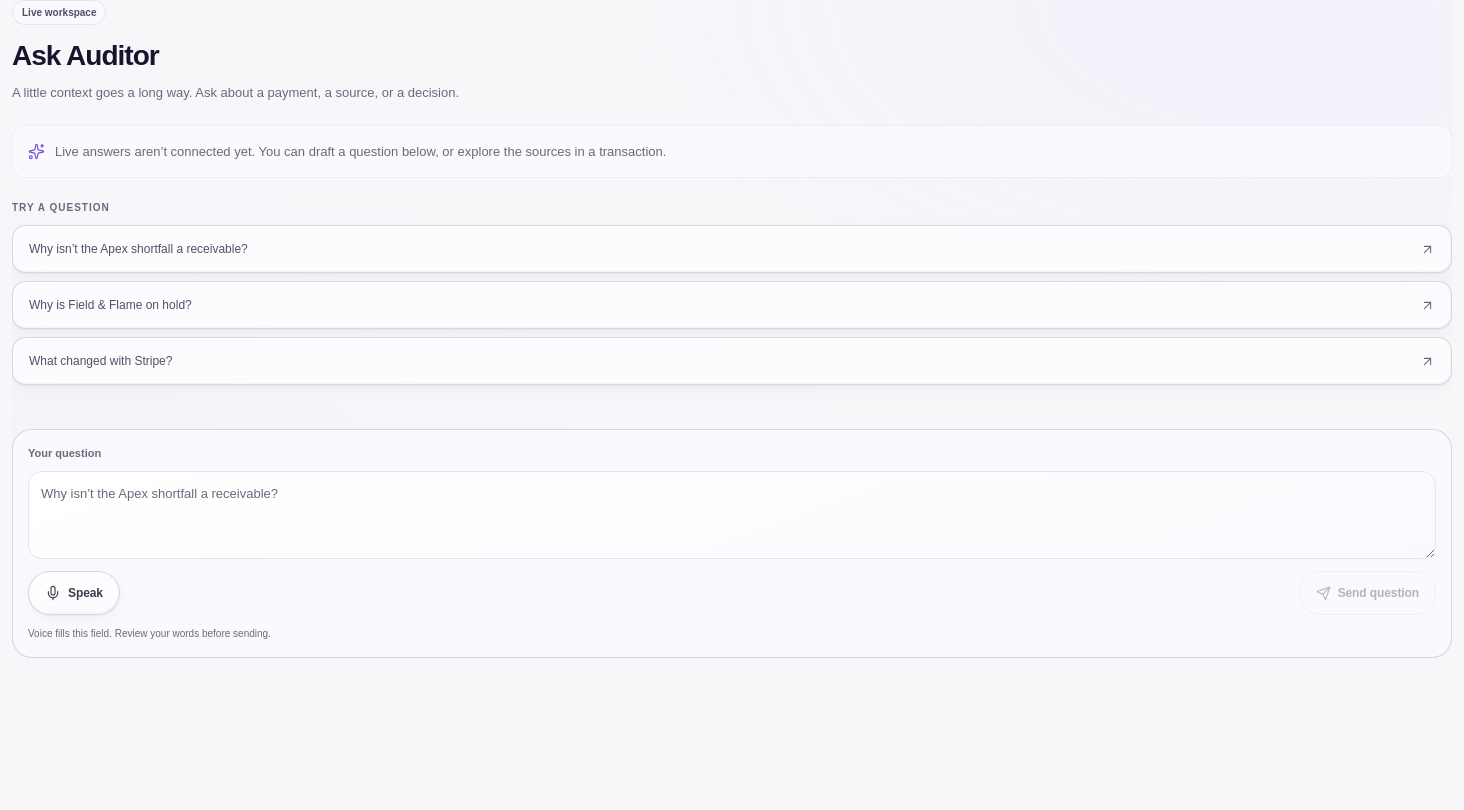
Test: explicit voice input › supports the prefixed browser API and can draft voice text while live answers are unavailable
The image size is (1464, 810).
What coordinates should you click on to do the following:
click the button with aria-label "Start microphone"
I would click on:
 (74, 593)
Its box is x1=28 y1=571 x2=120 y2=615.
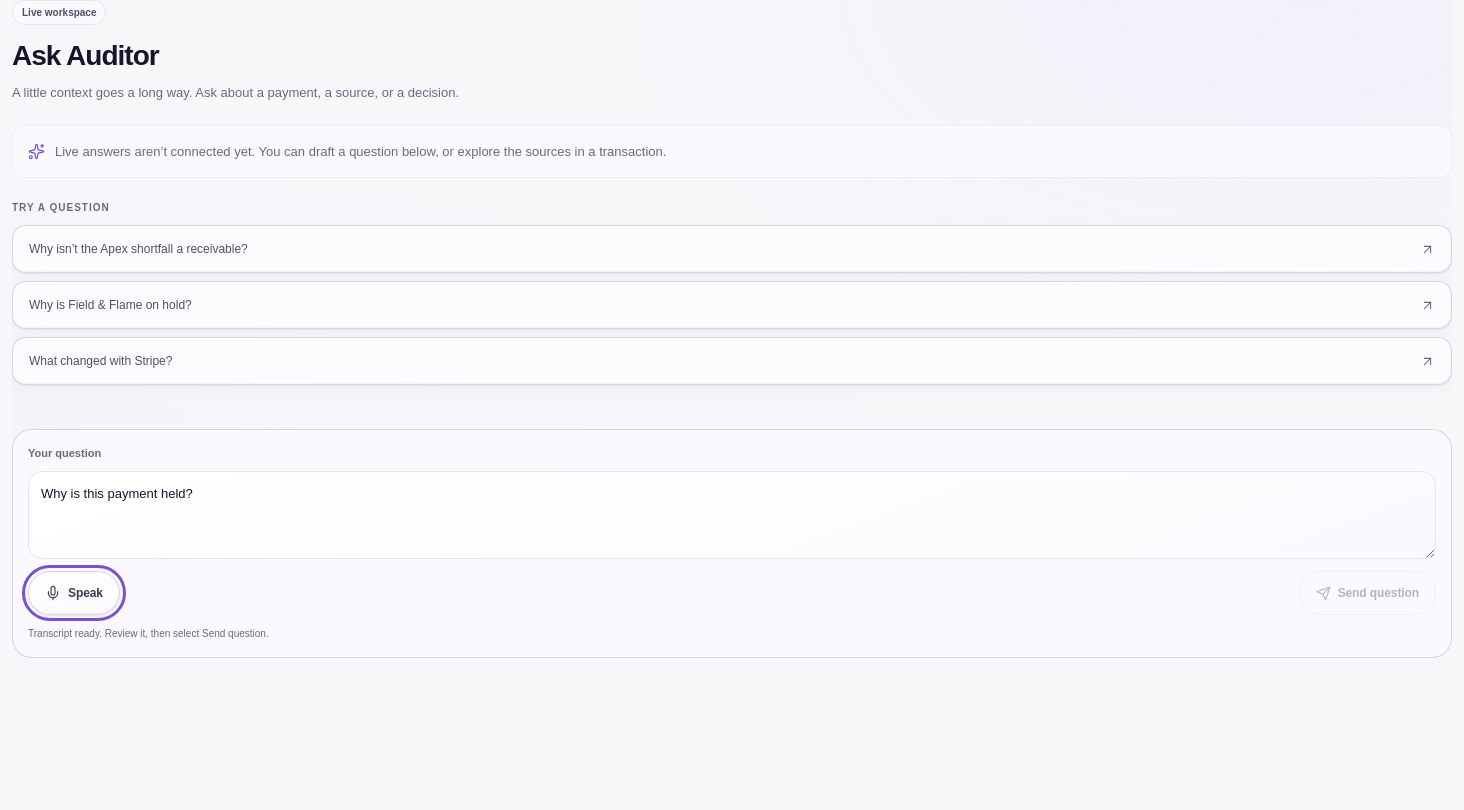
Expected: the button "Send question" is disabled, x1=1299 y1=571 x2=1436 y2=615
Expected: the text box labelled "Your question" holds "Why is this payment held?", x1=28 y1=471 x2=1436 y2=559
